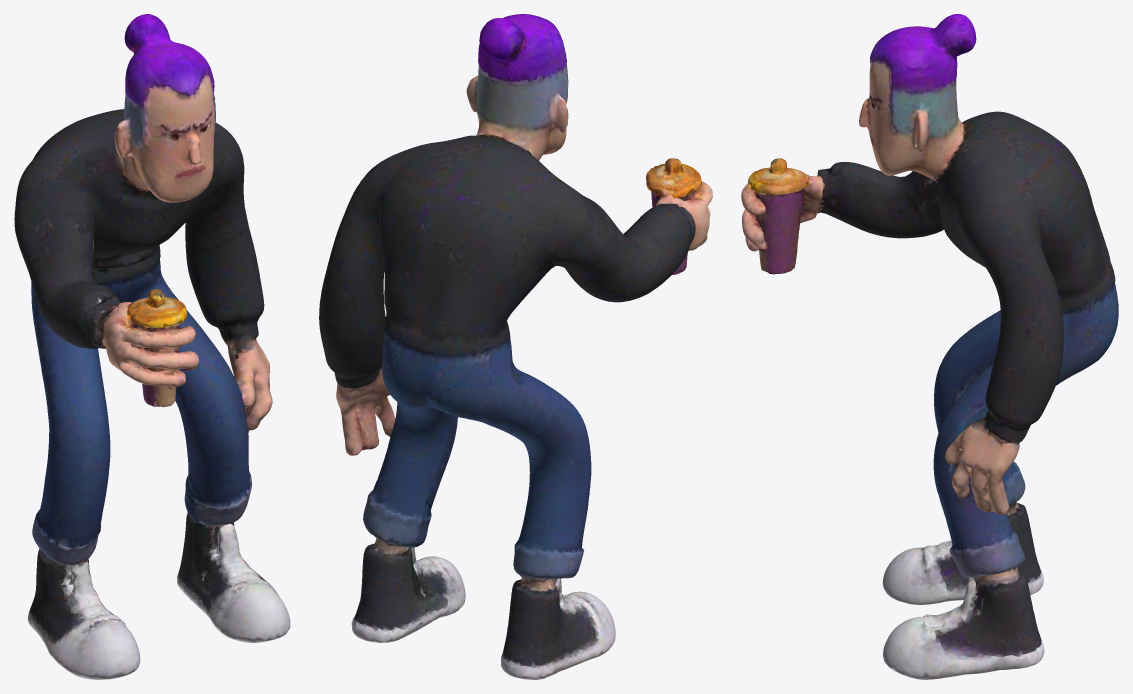
File: tired-person.glb
The picture shows the model from 3 angles, left to right: view 1: azimuth 30°, elevation 25°; view 2: azimuth 150°, elevation 25°; view 3: azimuth 270°, elevation 25°; orthographic projection. The views are drawn at different scales.
Visible parts, largest first — view 1: TiredPerson; view 2: TiredPerson; view 3: TiredPerson.
Part boxes in pixels (<box>): TiredPerson: <box>14,14,290,679</box>; TiredPerson: <box>319,14,712,679</box>; TiredPerson: <box>741,14,1118,679</box>.
Size of the model in its own units: 0.9162 by 2 by 1.12.
1 material, 1 textured.
